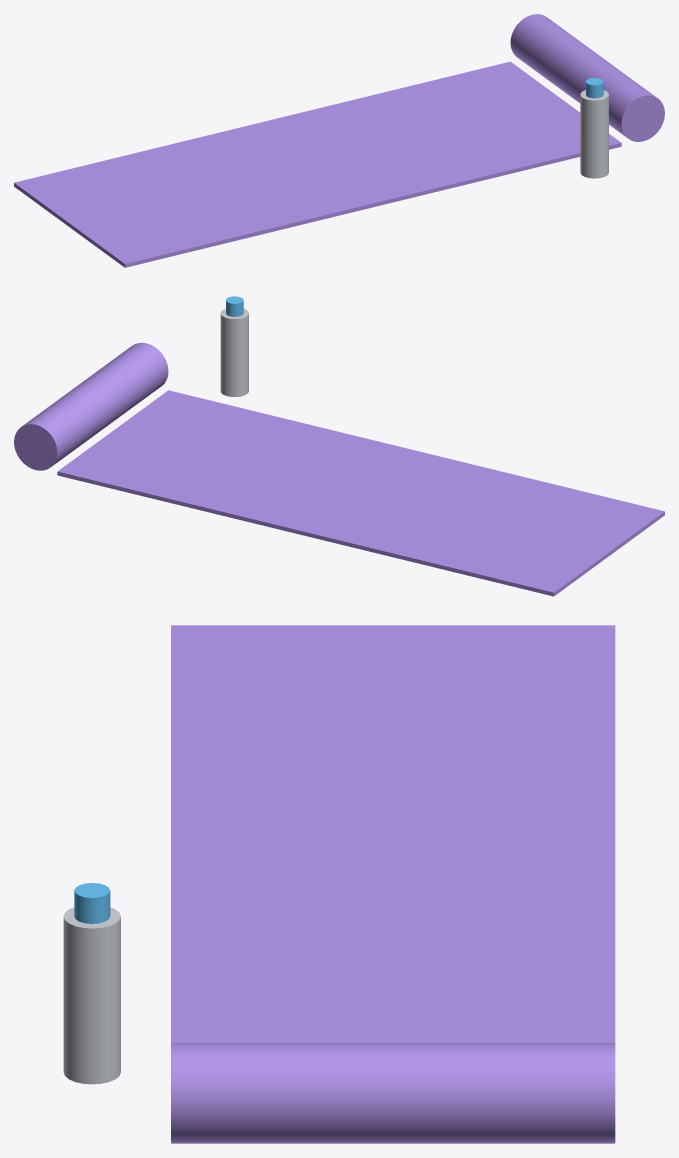
3 renders of one model, top to bottom at view 1: azimuth 30°, elevation 25°; view 2: azimuth 150°, elevation 25°; view 3: azimuth 270°, elevation 25°, orthographic. The views are drawn at different scales.
Bounding box in the file's own units: 1.74 × 0.28 × 0.77.
